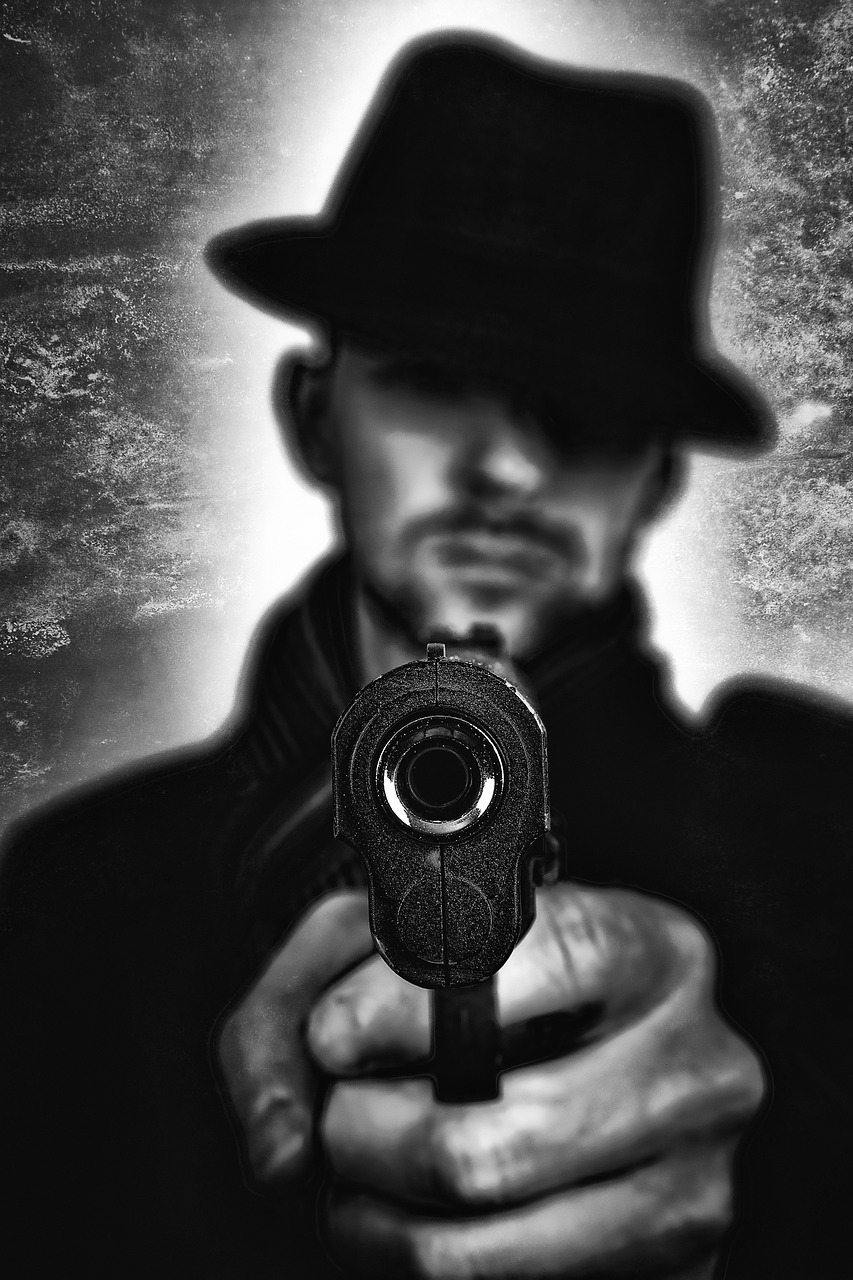gun: (317, 626, 579, 1117)
